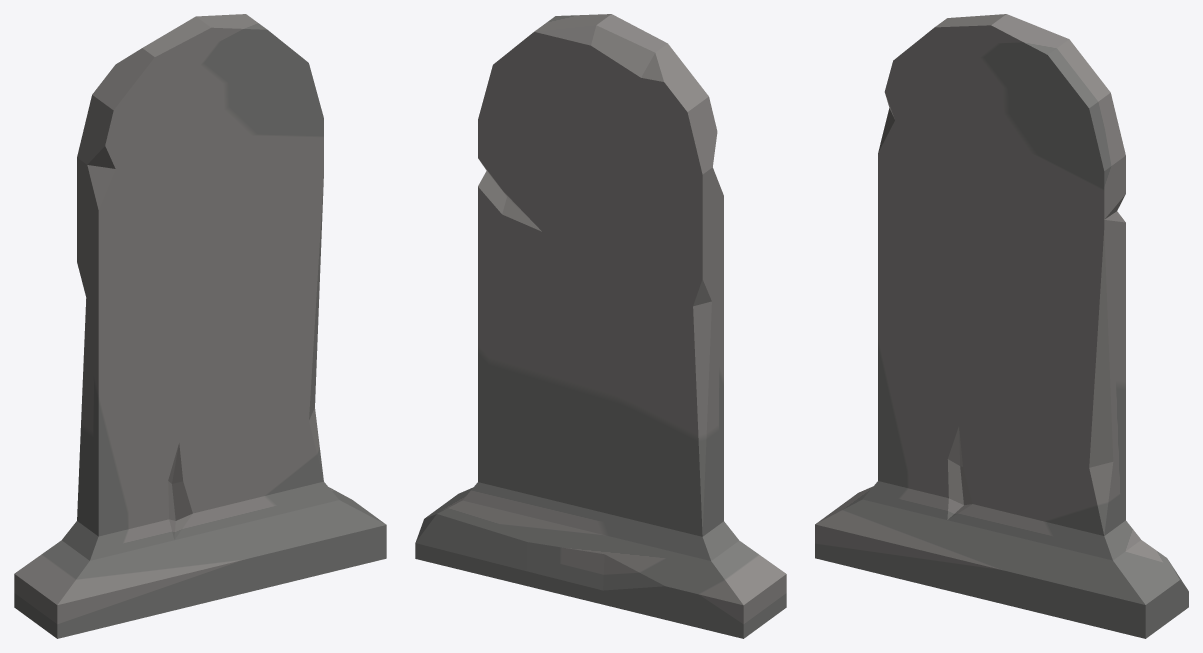
File: SM_Prop_Tombstone_03.fbx
The picture shows the model from 3 angles, left to right: view 1: azimuth 30°, elevation 25°; view 2: azimuth 150°, elevation 25°; view 3: azimuth 330°, elevation 25°; orthographic projection.
Visible parts, largest first — view 1: SM_Prop_Tombstone_03; view 2: SM_Prop_Tombstone_03; view 3: SM_Prop_Tombstone_03.
Part boxes in pixels (left/top/right/bottom): SM_Prop_Tombstone_03: left=14, top=14, right=386, bottom=638; SM_Prop_Tombstone_03: left=415, top=14, right=786, bottom=638; SM_Prop_Tombstone_03: left=815, top=14, right=1188, bottom=638.
Size of the model in its own units: 76.98 by 126 by 17.43.
Materials: 1 (1 with a texture image).
